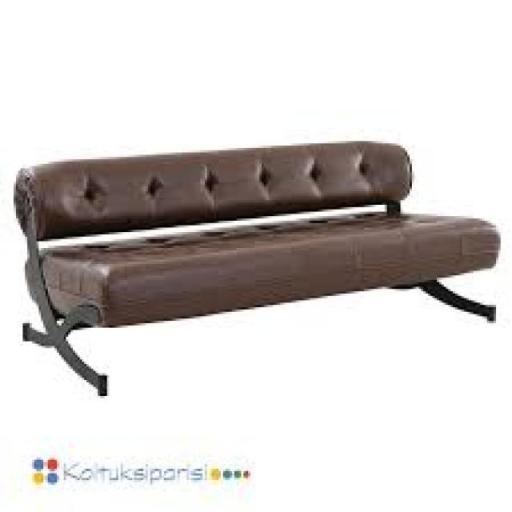sofa: (14, 118, 512, 354)
